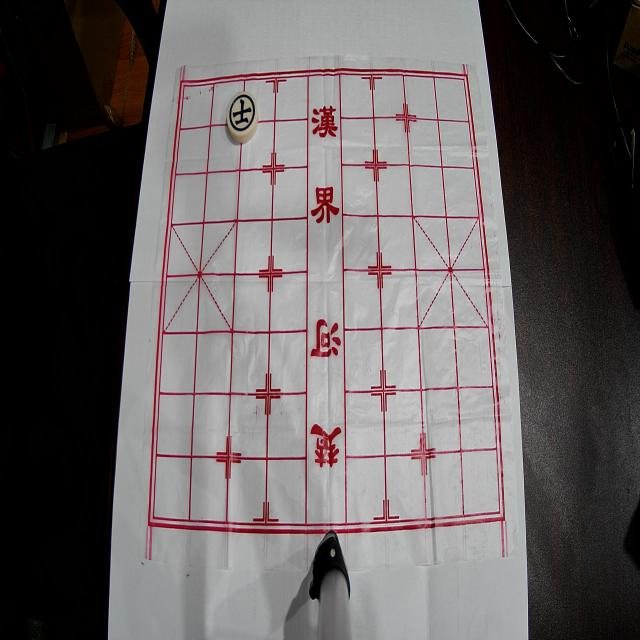black-guard: (227, 91, 258, 142)
